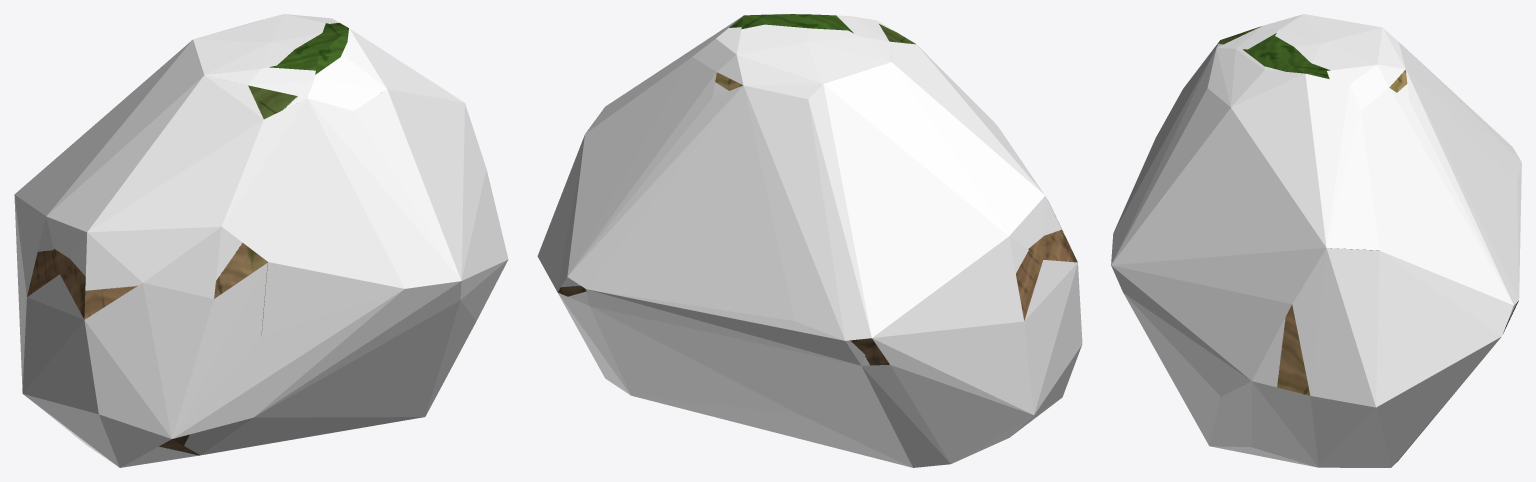
The model's file is mossy_cliff_boulder_cluster.glb.
3 views of the same model, side by side, from view 1: azimuth 30°, elevation 25°; view 2: azimuth 150°, elevation 25°; view 3: azimuth 270°, elevation 25° (orthographic).
Visible parts, largest first — view 1: col_boulder_cluster, MossyCliffBoulderCluster; view 2: col_boulder_cluster, MossyCliffBoulderCluster; view 3: col_boulder_cluster, MossyCliffBoulderCluster.
Part boxes in pixels (bbox=[...]): col_boulder_cluster: bbox=[14, 14, 508, 467]; MossyCliffBoulderCluster: bbox=[27, 22, 348, 455]; col_boulder_cluster: bbox=[537, 14, 1082, 467]; MossyCliffBoulderCluster: bbox=[557, 14, 1077, 365]; col_boulder_cluster: bbox=[1111, 14, 1521, 467]; MossyCliffBoulderCluster: bbox=[1218, 26, 1518, 395].
Size of the model in its own units: 7.5 by 5.44 by 5.64.
Materials: 3 (2 with a texture image).
